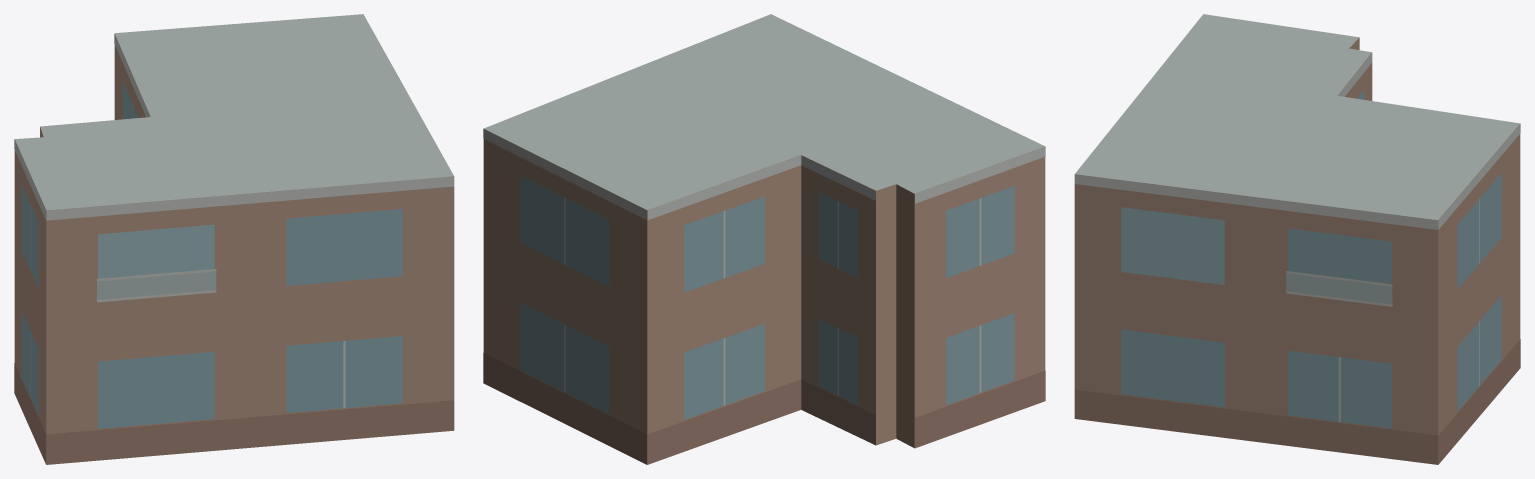
The model's file is survey-upis-32584190.glb.
3 renders of one model, left to right at view 1: azimuth 30°, elevation 25°; view 2: azimuth 150°, elevation 25°; view 3: azimuth 270°, elevation 25°, orthographic. The views are drawn at different scales.
Parts seen in each view (by area): view 1: survey-upis-32584190.tmp; view 2: survey-upis-32584190.tmp; view 3: survey-upis-32584190.tmp.
Boxes of the visible parts, x1,y1,x2,y2 form: survey-upis-32584190.tmp: (14,14,454,464); survey-upis-32584190.tmp: (483,14,1045,464); survey-upis-32584190.tmp: (1074,14,1520,464).
Size of the model in its own units: 11.04 by 6.1 by 10.09.
